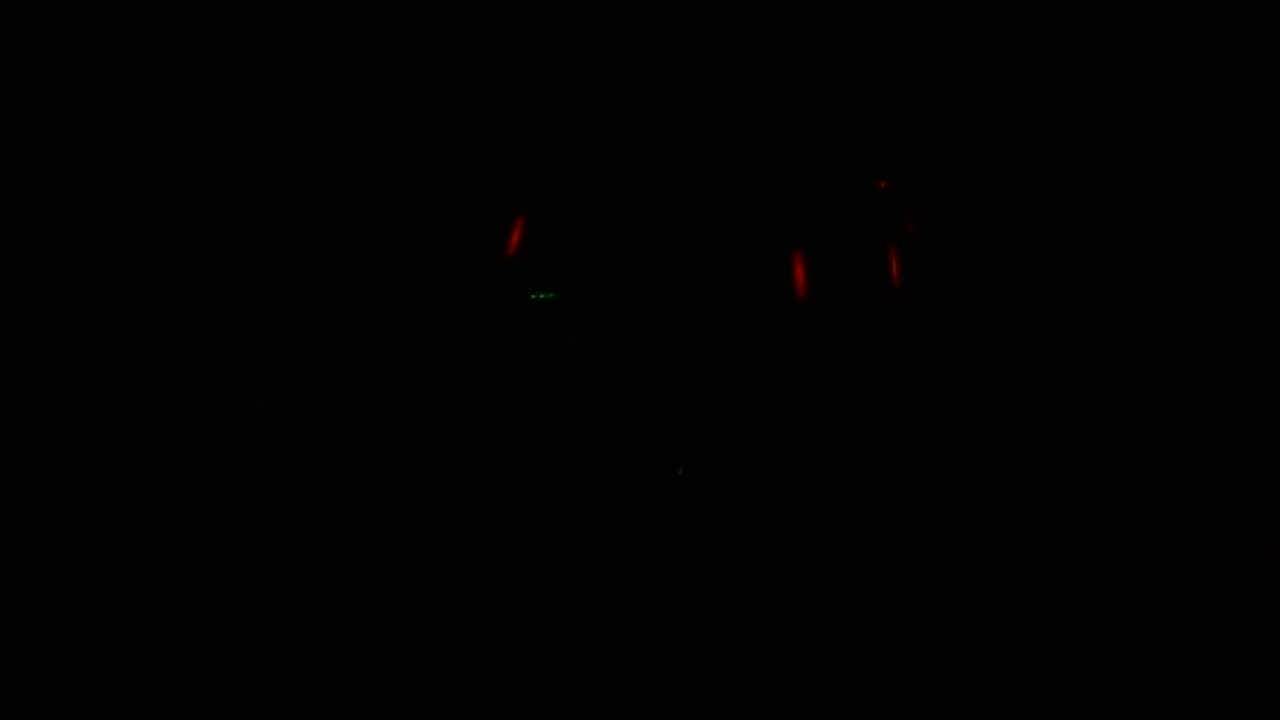pair1: (788, 243, 901, 298)
